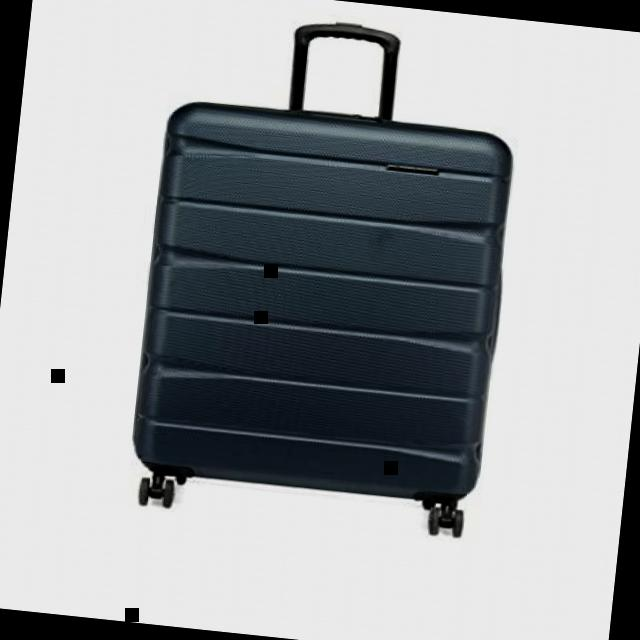luggage: (108, 84, 534, 542)
